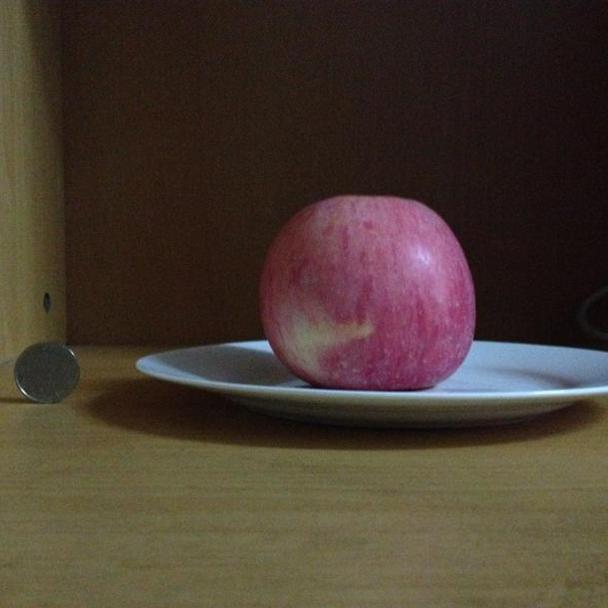apple: (256, 194, 478, 389)
